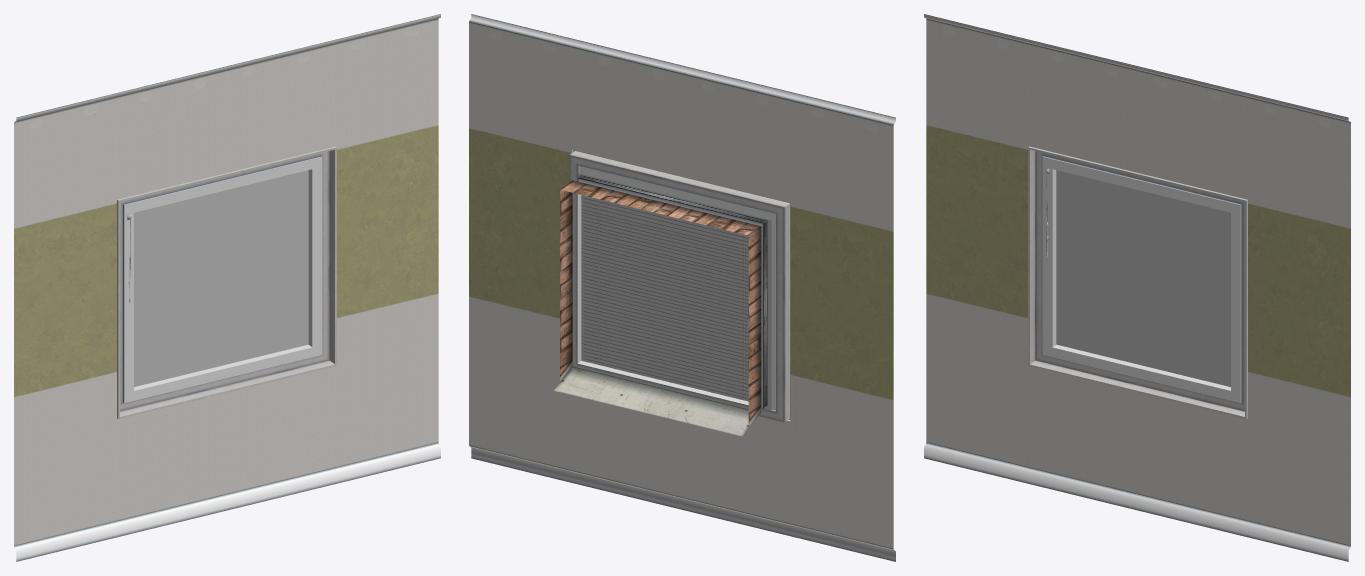
File: waitingroom_flat_window.dae
The picture shows the model from 3 angles, left to right: view 1: azimuth 30°, elevation 25°; view 2: azimuth 150°, elevation 25°; view 3: azimuth 330°, elevation 25°; orthographic projection.
Parts seen in each view (by area): view 1: window, pPlane12; view 2: window, pPlane12, polySurface139; view 3: window, pPlane12.
Part boxes in pixels (x1,y1,x2,y2): window: [14, 14, 440, 561]; pPlane12: [134, 170, 308, 386]; window: [469, 14, 895, 561]; pPlane12: [578, 173, 771, 410]; polySurface139: [581, 197, 748, 400]; window: [924, 14, 1350, 561]; pPlane12: [1056, 170, 1230, 386].
Bounding box in the file's own units: 4 × 4 × 0.5829.
